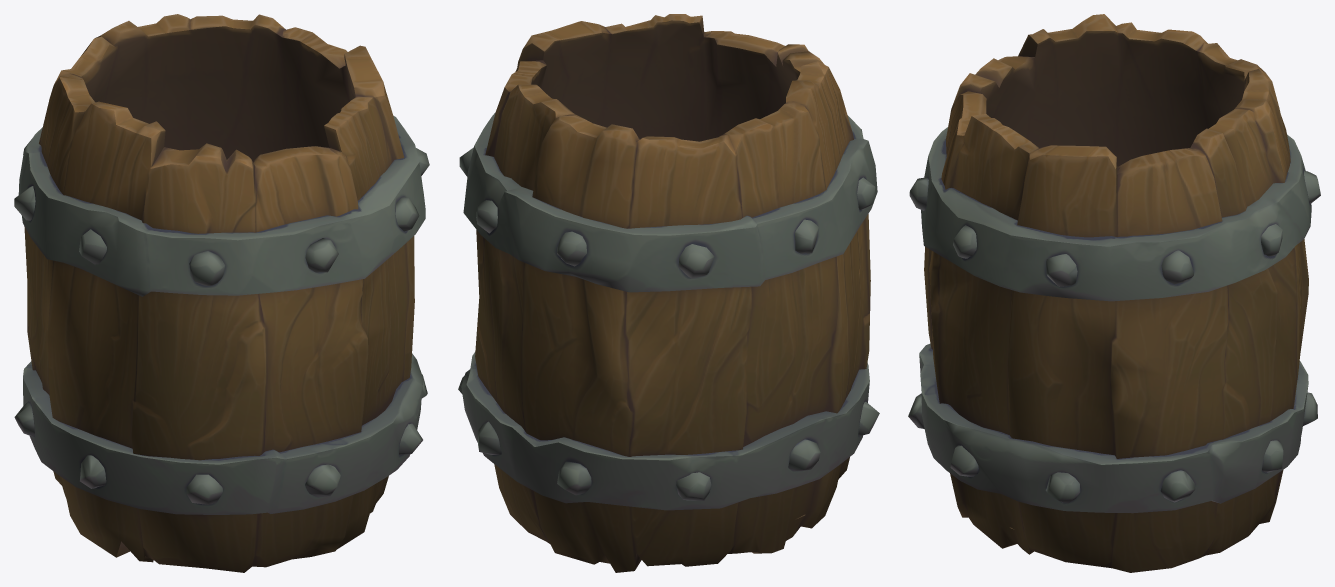
Rendered from SM_FW01_Barrel_A_01.fbx.
3 renders of one model, left to right at view 1: azimuth 30°, elevation 25°; view 2: azimuth 150°, elevation 25°; view 3: azimuth 270°, elevation 25°, orthographic. The views are drawn at different scales.
Visible parts, largest first — view 1: SM_FW01_Barrel_A_01_LOD0; view 2: SM_FW01_Barrel_A_01_LOD0; view 3: SM_FW01_Barrel_A_01_LOD0.
Boxes of the visible parts, x1,y1,x2,y2 form: SM_FW01_Barrel_A_01_LOD0: (14,14,429,572); SM_FW01_Barrel_A_01_LOD0: (458,14,879,572); SM_FW01_Barrel_A_01_LOD0: (908,14,1320,572).
Size of what is drawn, in the model's own units: 0.955 by 1.15 by 0.9962.
